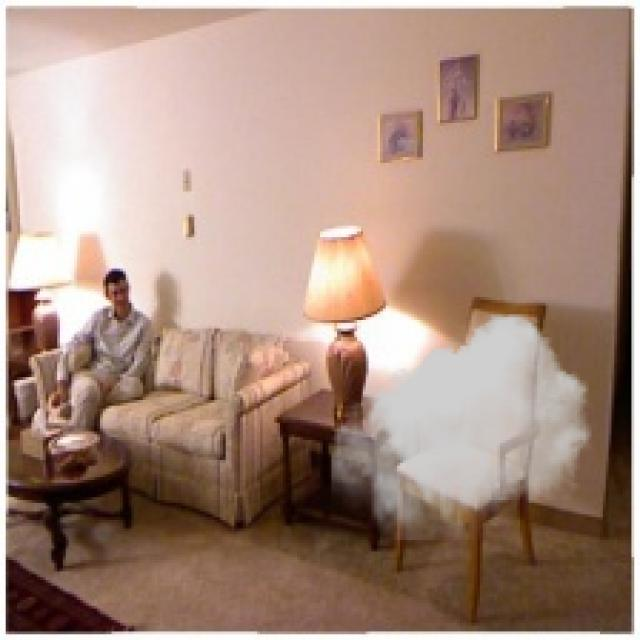smoke: (332, 314, 592, 540)
